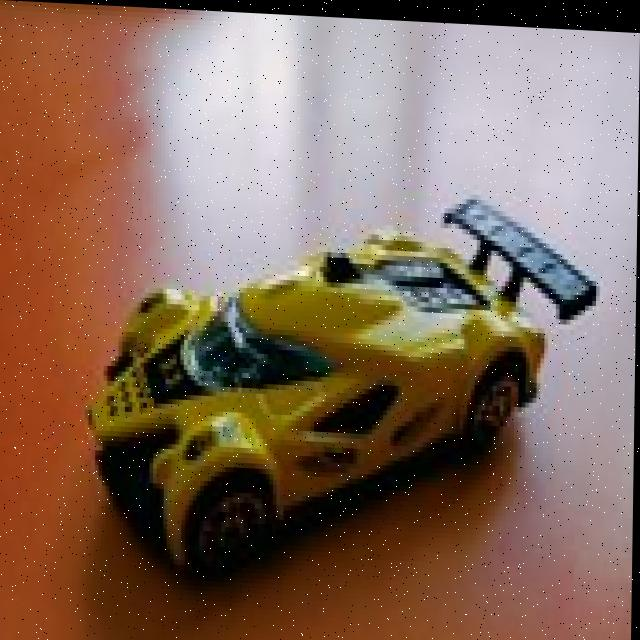car: (60, 135, 614, 609)
